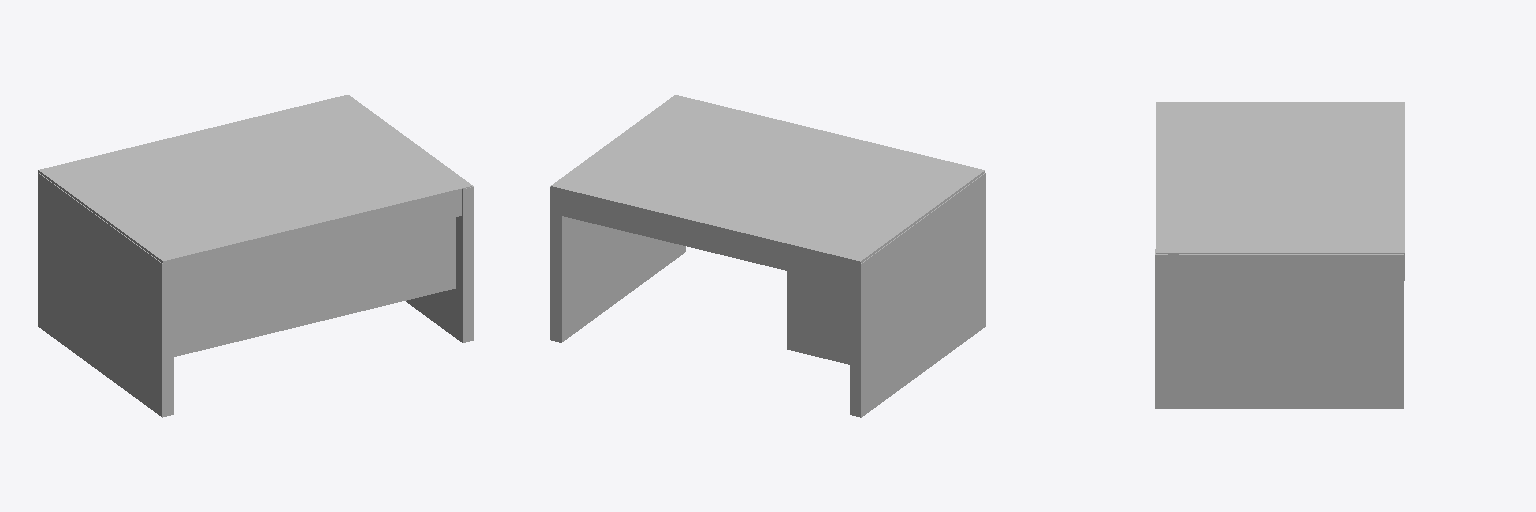
The model's file is meja pribadi dosen.obj.
The picture shows the model from 3 angles: view 1: azimuth 30°, elevation 25°; view 2: azimuth 150°, elevation 25°; view 3: azimuth 270°, elevation 25°; orthographic projection.
Visible parts, largest first — view 1: Cube, Cube.001, Cube.003, Cube.002; view 2: Cube, Cube.001, Cube.002, Cube.004, Cube.006, Cube.005; view 3: Cube.002, Cube.
Boxes of the visible parts, x1,y1,x2,y2 form: Cube: [38, 95, 471, 288]; Cube.001: [38, 173, 173, 417]; Cube.003: [174, 177, 465, 356]; Cube.002: [349, 95, 473, 342]; Cube: [551, 95, 984, 288]; Cube.001: [850, 173, 985, 417]; Cube.002: [550, 95, 685, 342]; Cube.004: [787, 271, 849, 312]; Cube.006: [787, 322, 849, 364]; Cube.005: [787, 298, 849, 339]; Cube.002: [1155, 249, 1403, 408]; Cube: [1156, 102, 1404, 280].
Size of the model in its own units: 8.7 by 4.17 by 6.05.